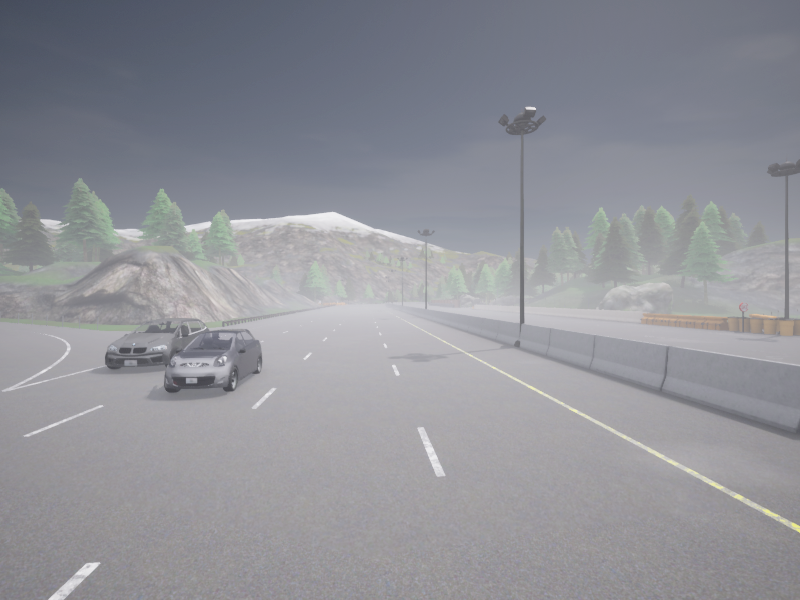vehicle: (164, 329, 261, 392), (105, 318, 209, 368), (428, 301, 431, 303)
